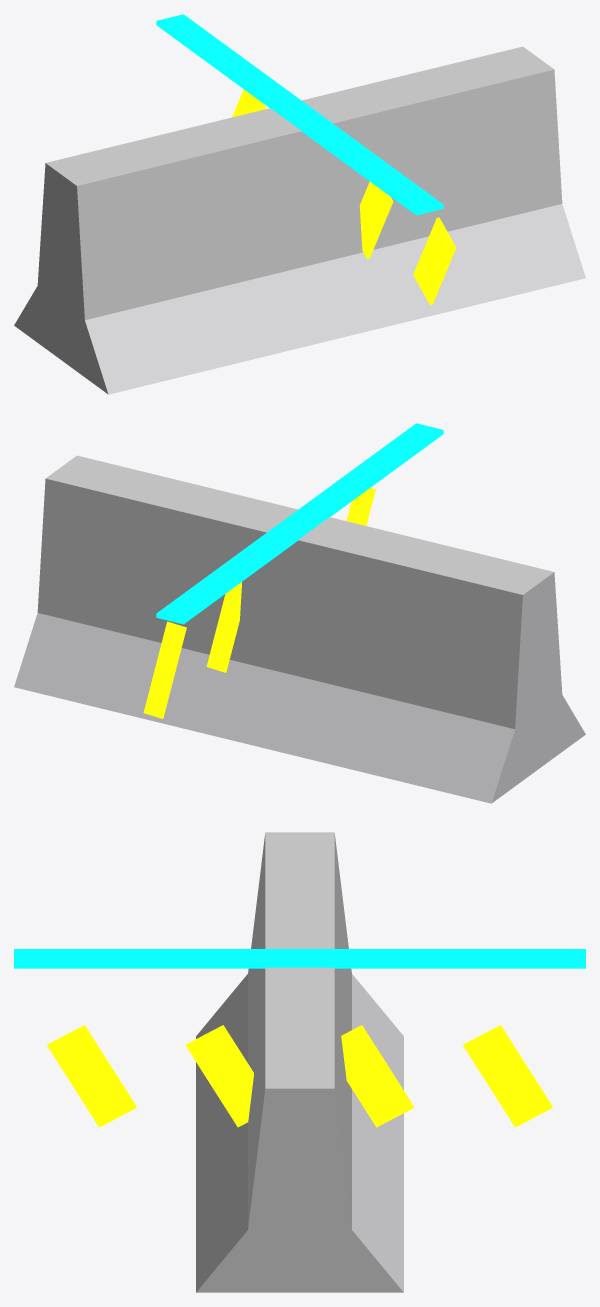
The model's file is Prop_Barrier.fbx.
3 renders of one model, top to bottom at view 1: azimuth 30°, elevation 25°; view 2: azimuth 150°, elevation 25°; view 3: azimuth 270°, elevation 25°, orthographic. The views are drawn at different scales.
Visible parts, largest first — view 1: Barrier_Body, Barrier_TopGlow, Barrier_Stripe0, Barrier_Stripe1, Barrier_Stripe3; view 2: Barrier_Body, Barrier_TopGlow, Barrier_Stripe3, Barrier_Stripe2, Barrier_Stripe0; view 3: Barrier_Body, Barrier_TopGlow, Barrier_Stripe0, Barrier_Stripe3, Barrier_Stripe2, Barrier_Stripe1.
Boxes of the visible parts, x1=… form: Barrier_Body: x1=14, y1=46, x2=585, y2=394; Barrier_TopGlow: x1=156, y1=14, x2=443, y2=215; Barrier_Stripe0: x1=413, y1=217, x2=456, y2=304; Barrier_Stripe1: x1=359, y1=181, x2=393, y2=258; Barrier_Stripe3: x1=232, y1=89, x2=266, y2=117; Barrier_Body: x1=14, y1=455, x2=585, y2=803; Barrier_TopGlow: x1=156, y1=423, x2=443, y2=624; Barrier_Stripe3: x1=143, y1=621, x2=186, y2=718; Barrier_Stripe2: x1=206, y1=582, x2=241, y2=672; Barrier_Stripe0: x1=346, y1=487, x2=375, y2=525; Barrier_Body: x1=196, y1=832, x2=403, y2=1292; Barrier_TopGlow: x1=14, y1=949, x2=585, y2=968; Barrier_Stripe0: x1=47, y1=1025, x2=136, y2=1127; Barrier_Stripe3: x1=463, y1=1025, x2=552, y2=1127; Barrier_Stripe2: x1=341, y1=1025, x2=413, y2=1127; Barrier_Stripe1: x1=186, y1=1025, x2=253, y2=1127.
Bounding box in the file's own units: 0.7 × 0.265 × 0.66.
